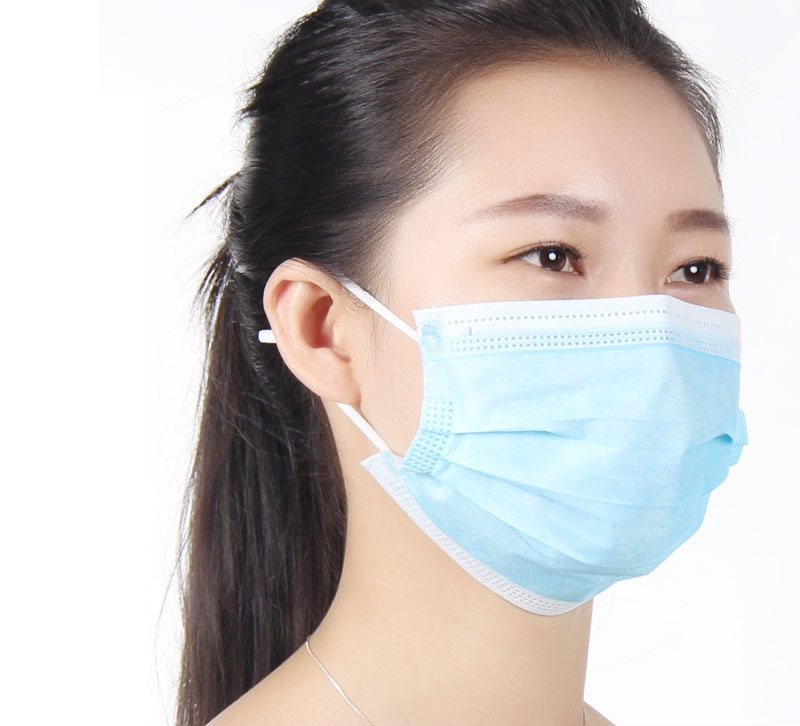face_mask: (371, 60, 750, 613)
